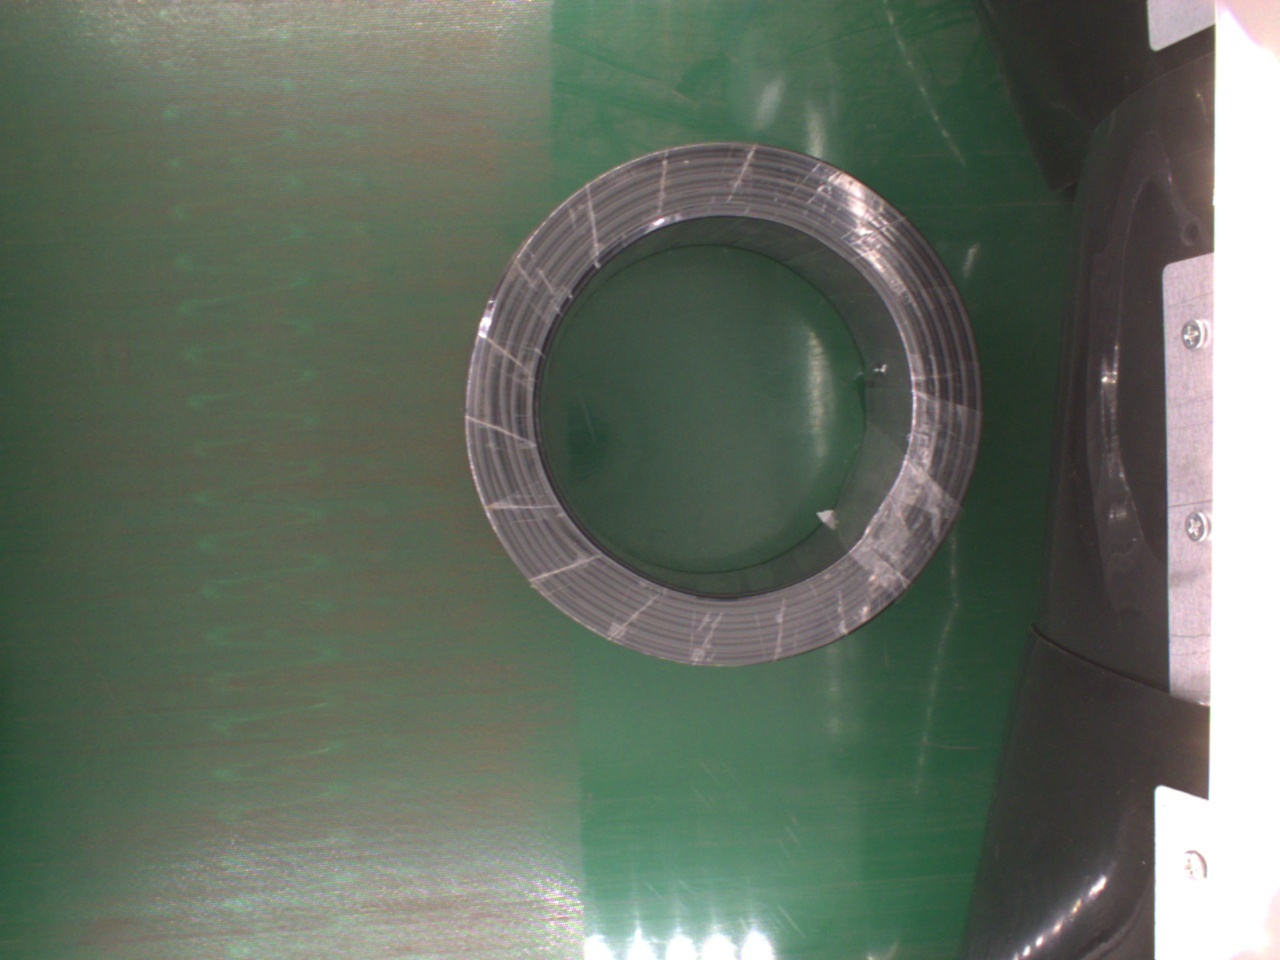black: (455, 140, 984, 671)
